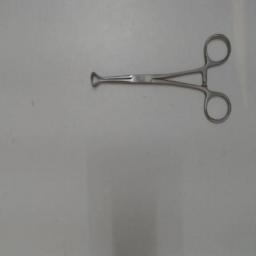Babcock Tissue Forceps: (86, 29, 236, 127)
